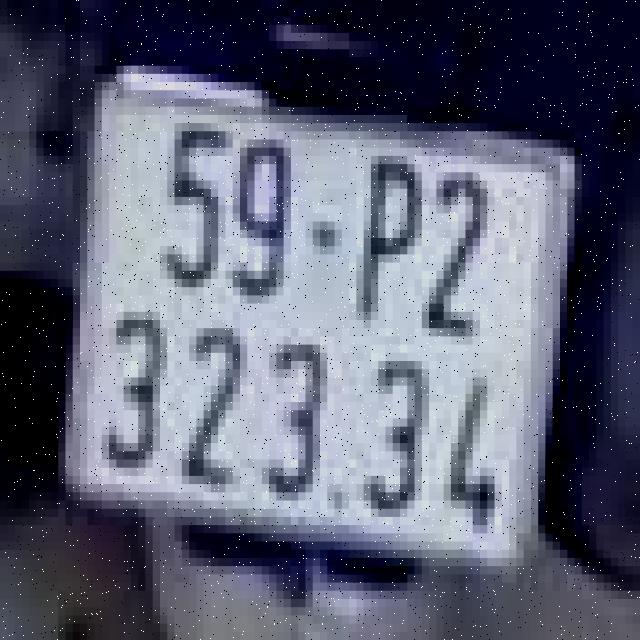2: (168, 314, 267, 499), (411, 159, 501, 348)
3: (354, 337, 438, 528), (87, 310, 179, 478), (258, 328, 332, 512)
4: (438, 362, 520, 544)
5: (152, 119, 232, 308)
9: (226, 135, 298, 308)
P: (347, 148, 437, 334)
